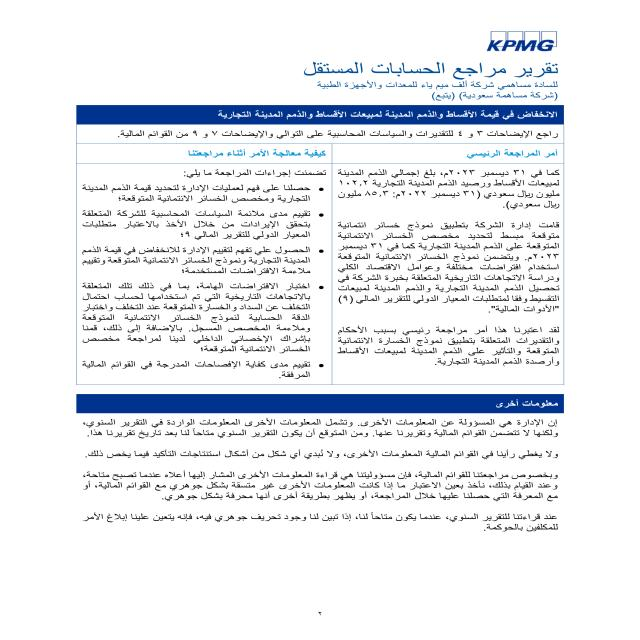auditor_report: (295, 60, 570, 81)
